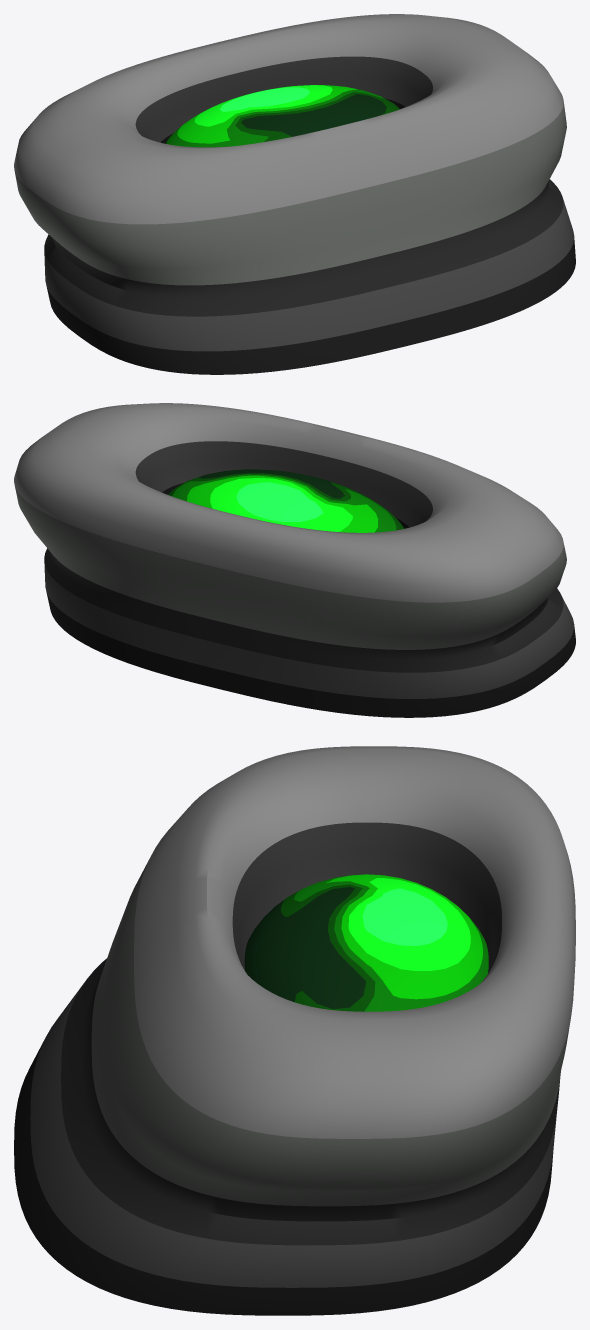
Rendered from lens_pad.glb.
3 renders of one model, top to bottom at view 1: azimuth 30°, elevation 25°; view 2: azimuth 150°, elevation 25°; view 3: azimuth 270°, elevation 25°, orthographic. The views are drawn at different scales.
Visible parts, largest first — view 1: pad, lens; view 2: pad, lens; view 3: pad, lens.
Boxes of the visible parts, x1,y1,x2,y2 form: pad: (14,14,575,374); lens: (165,85,399,147); pad: (14,403,575,717); lens: (168,469,404,532); pad: (14,746,575,1315); lens: (244,874,488,1011).
Size of the model in its own units: 18.2 by 5.98 by 11.95.
